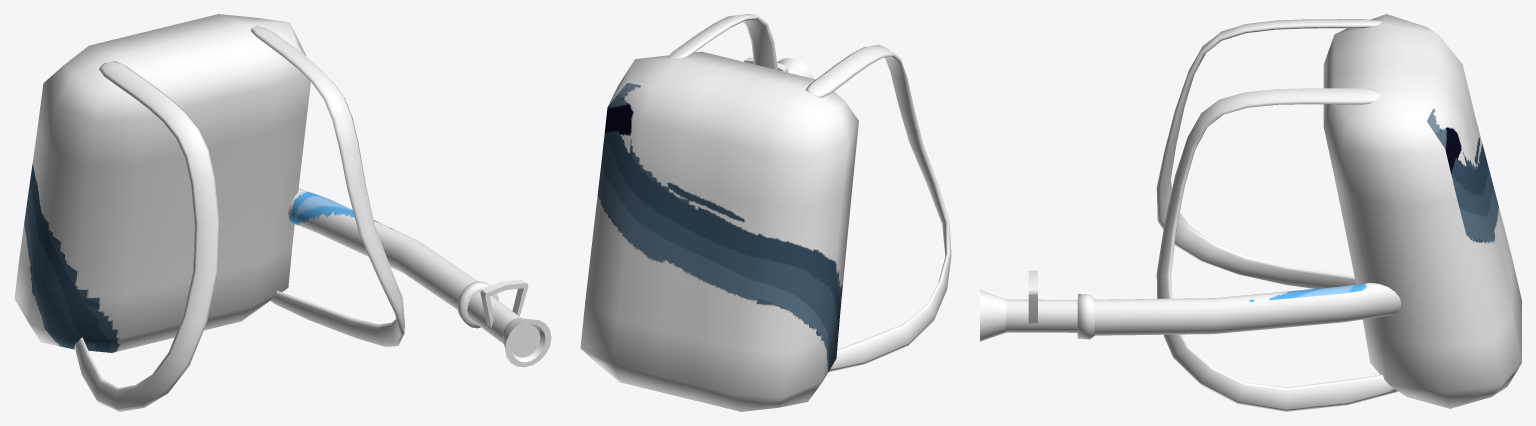
File: mangueraa.fbx
3 views of the same model, side by side, from view 1: azimuth 30°, elevation 25°; view 2: azimuth 150°, elevation 25°; view 3: azimuth 270°, elevation 25° (orthographic). The views are drawn at different scales.
Visible parts, largest first — view 1: Manguera; view 2: Manguera; view 3: Manguera.
Boxes of the visible parts, bbox=[...] form: Manguera: bbox=[14, 14, 551, 411]; Manguera: bbox=[580, 14, 951, 411]; Manguera: bbox=[980, 14, 1521, 411].
Bounding box in the file's own units: 49.96 × 48.25 × 77.1.
